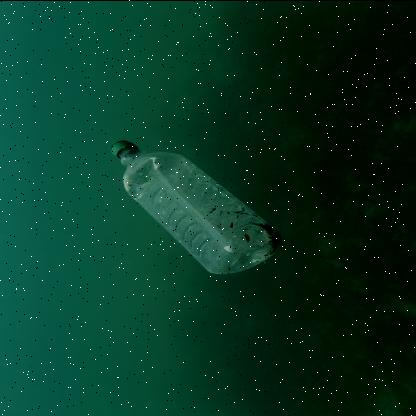Plastic Bottle: (112, 139, 280, 273)
